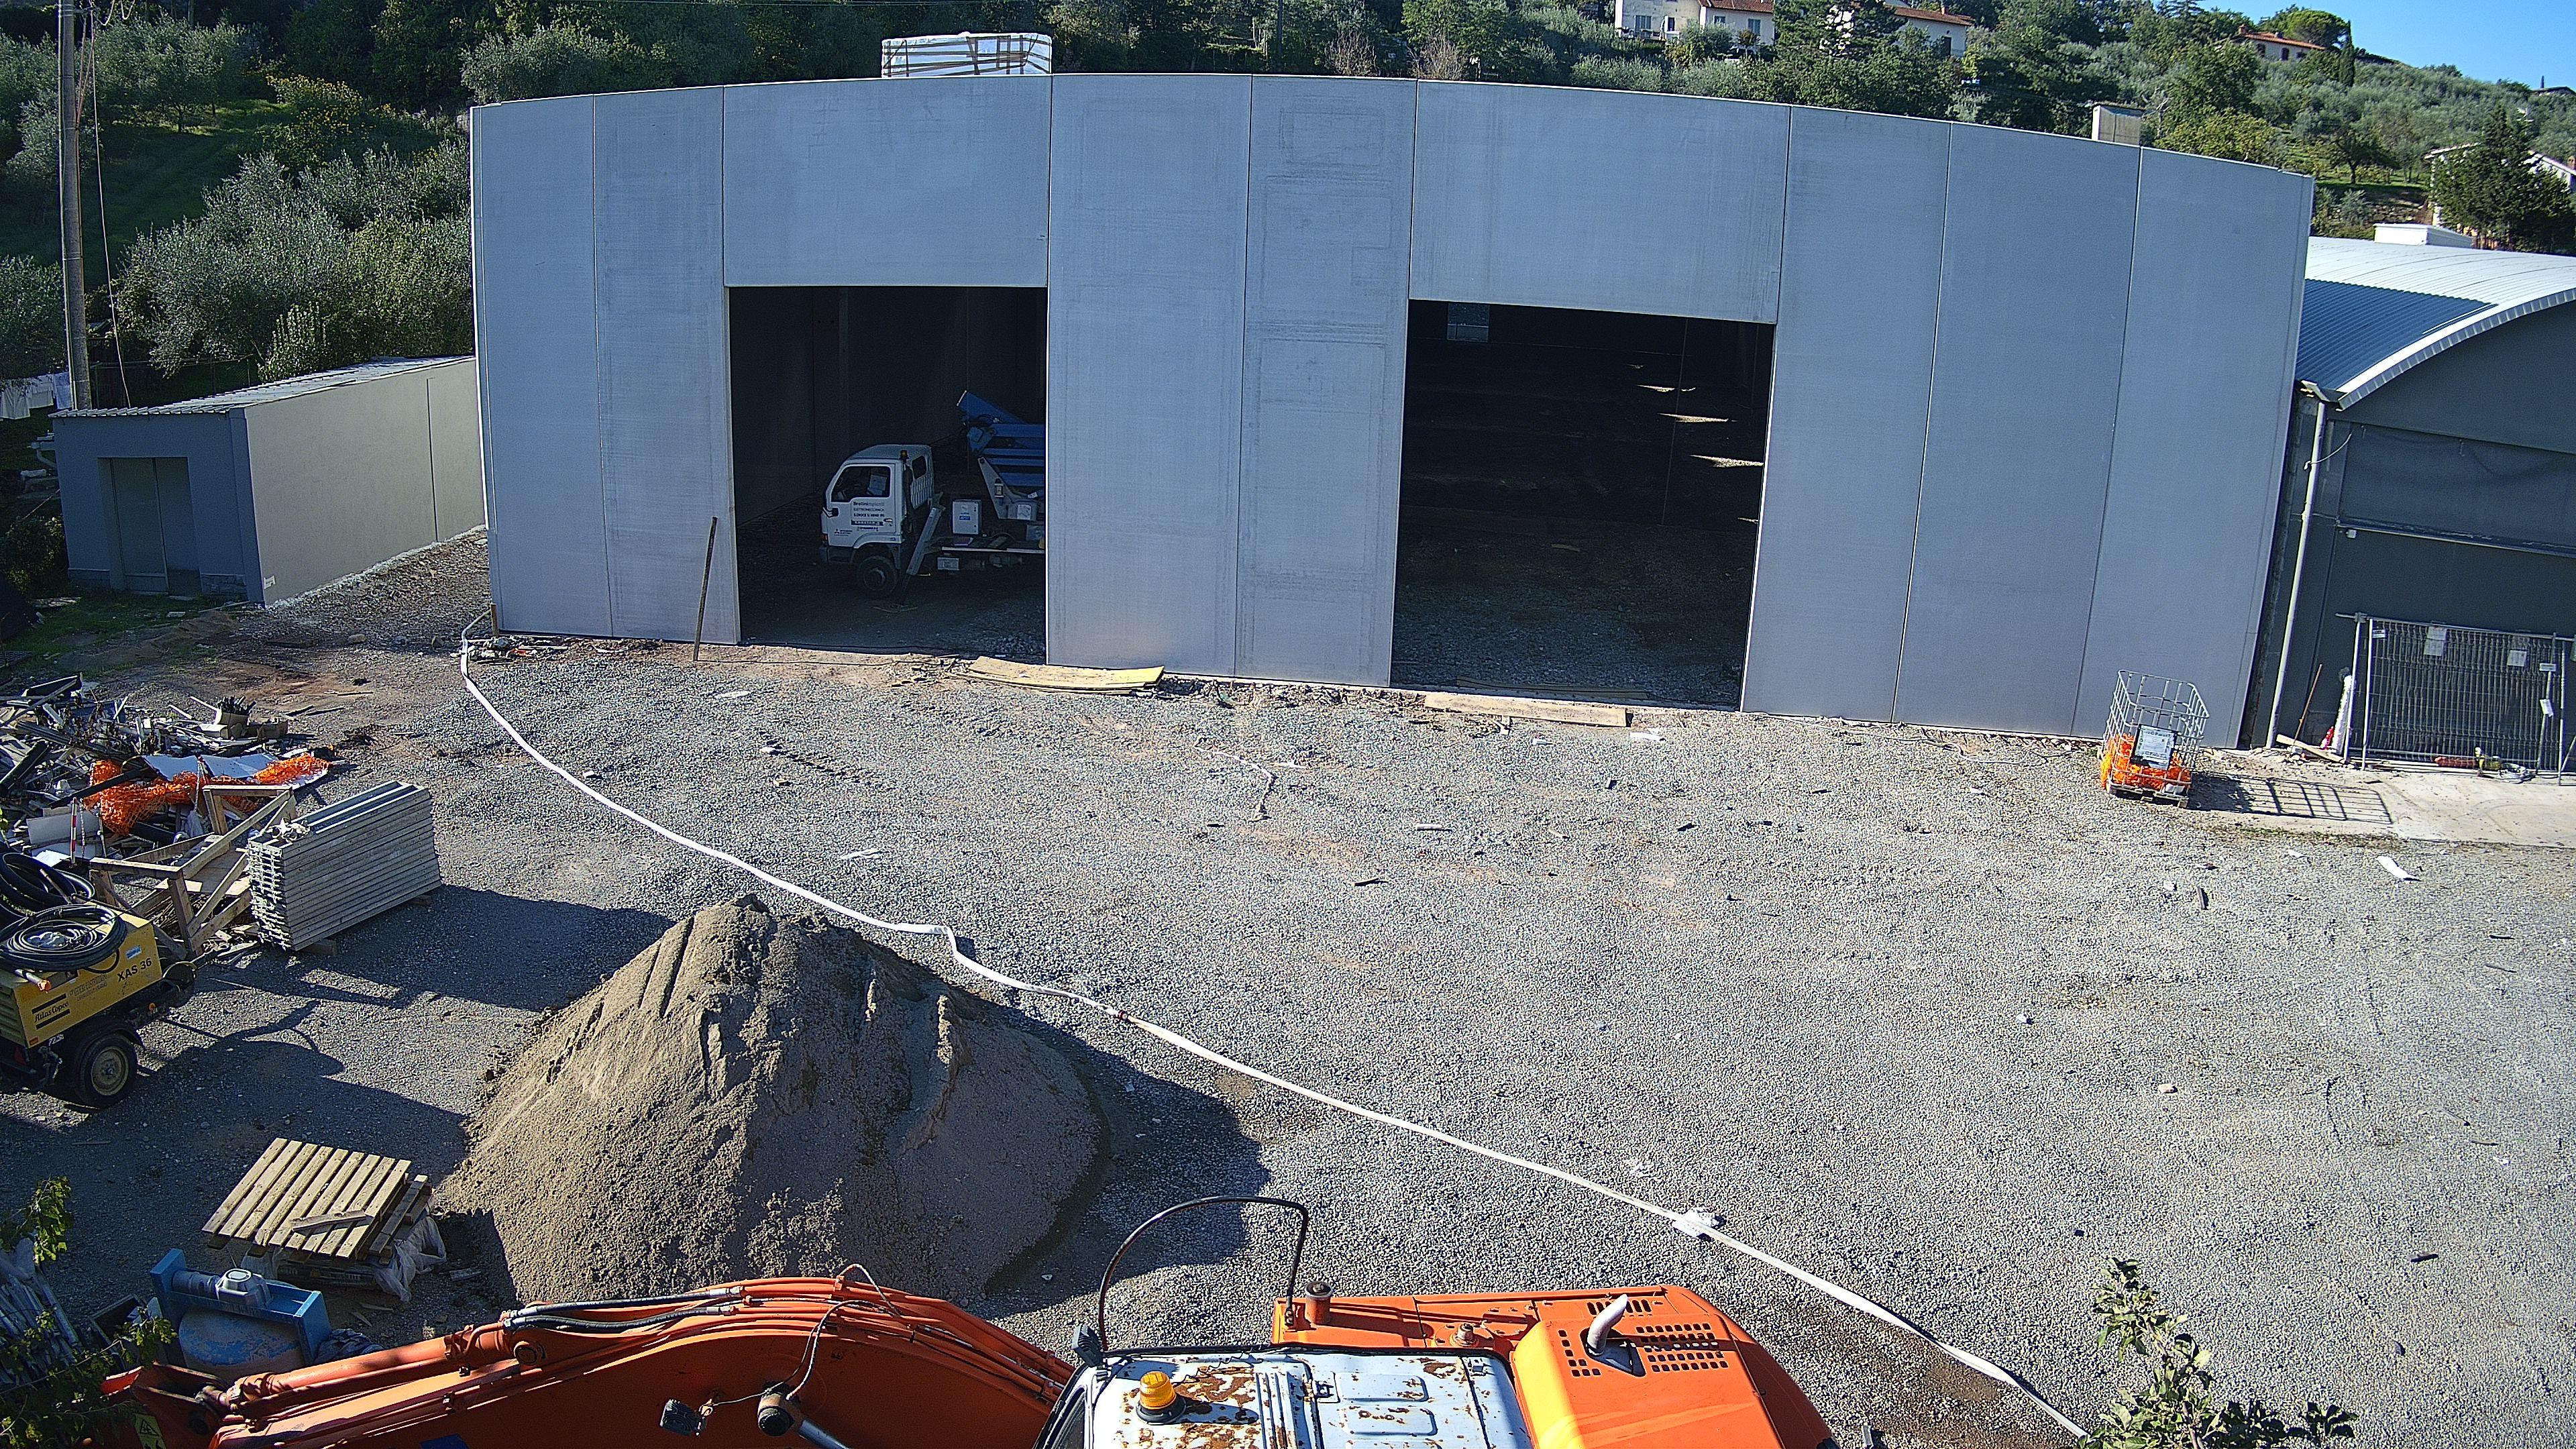Aerial platforms: (817, 389, 1047, 600)
excavator: (76, 1191, 1833, 1449)
